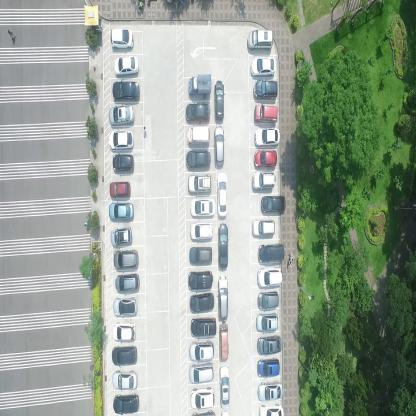car: (112, 79, 140, 102), (111, 368, 139, 391), (188, 72, 212, 98), (190, 386, 216, 410), (188, 339, 215, 362), (188, 291, 216, 313), (112, 393, 140, 415), (113, 248, 140, 270), (257, 266, 283, 288), (114, 54, 140, 76), (108, 104, 134, 126), (112, 345, 138, 367), (219, 364, 231, 410), (110, 28, 134, 51), (255, 126, 280, 148), (261, 193, 286, 215), (191, 316, 216, 338), (115, 272, 140, 294), (248, 30, 274, 51), (250, 57, 276, 78), (258, 242, 284, 263), (185, 102, 211, 123), (112, 297, 138, 318), (107, 129, 134, 149), (108, 202, 135, 222), (217, 274, 228, 323), (254, 148, 278, 170), (217, 221, 228, 269), (188, 172, 212, 194), (190, 196, 214, 218), (188, 269, 213, 290), (258, 380, 284, 400), (189, 363, 215, 383), (217, 171, 228, 218), (186, 126, 210, 147), (189, 222, 213, 243), (189, 245, 213, 266), (112, 321, 136, 342), (251, 171, 276, 191), (214, 78, 225, 122), (110, 226, 132, 248), (254, 103, 278, 123), (252, 218, 276, 238), (214, 126, 225, 168), (257, 356, 280, 376), (254, 80, 278, 99), (186, 150, 210, 169), (257, 336, 282, 354), (256, 312, 278, 332), (112, 153, 134, 173), (108, 180, 131, 199), (257, 290, 279, 309), (219, 323, 229, 361), (259, 403, 284, 415)
